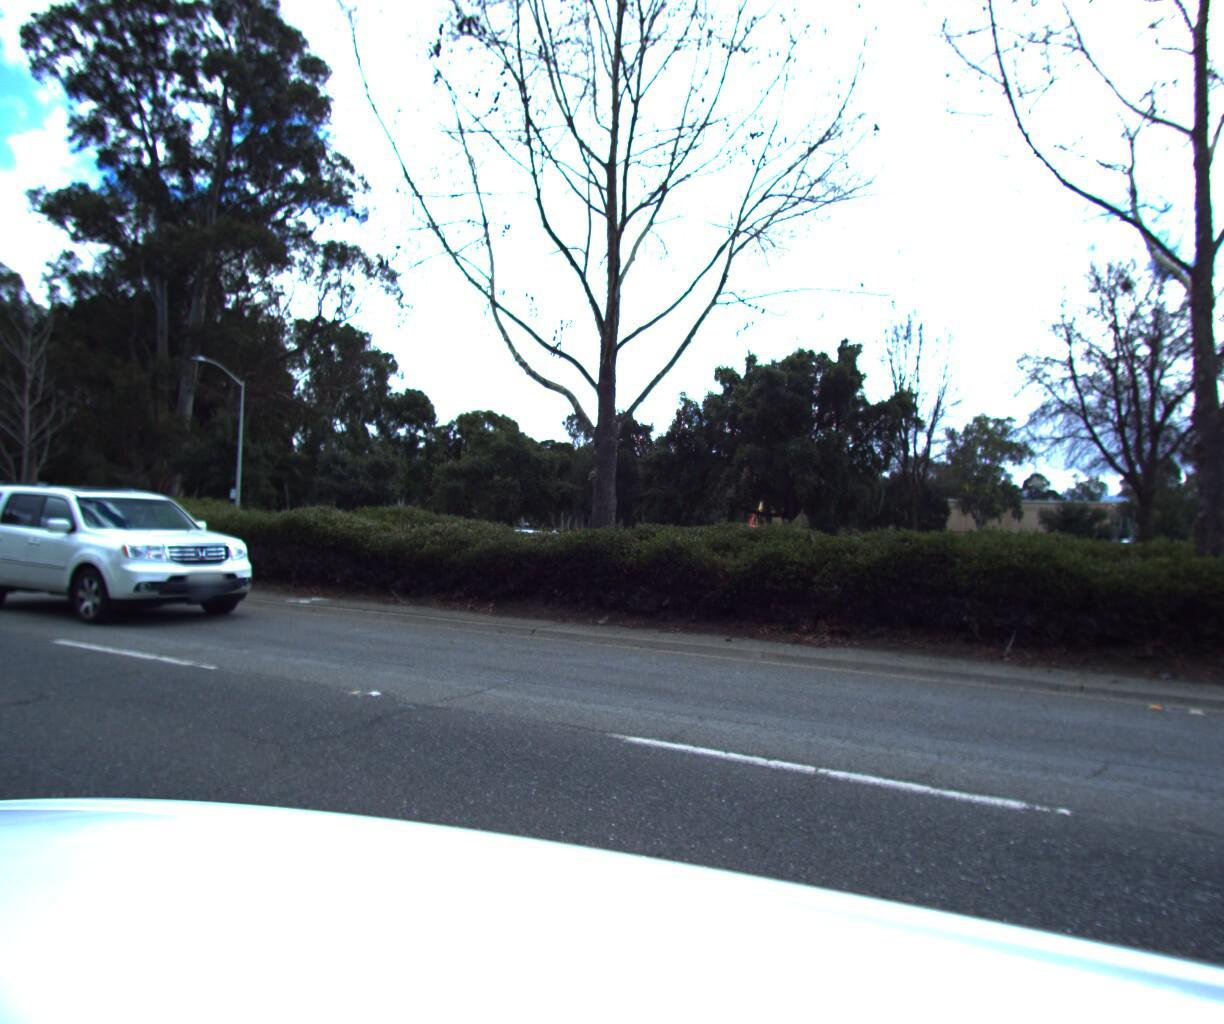car: (0, 479, 285, 636)
